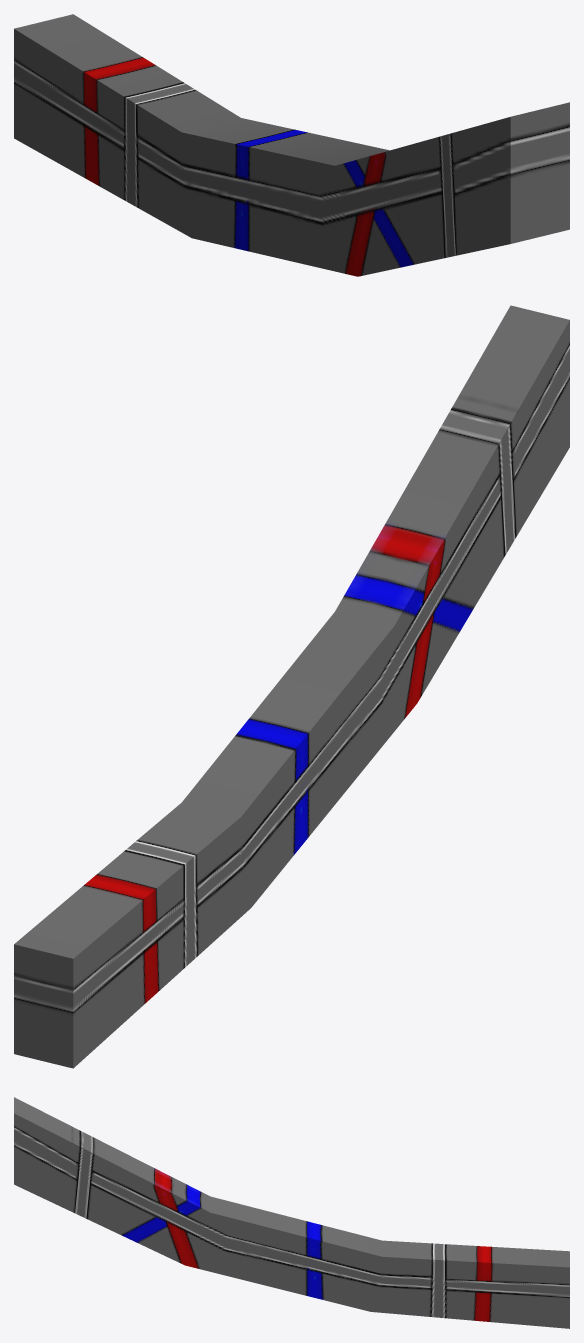
The model's file is space_ramp_border.gltf.
3 renders of one model, top to bottom at view 1: azimuth 30°, elevation 25°; view 2: azimuth 150°, elevation 25°; view 3: azimuth 270°, elevation 25°, orthographic. The views are drawn at different scales.
Parts seen in each view (by area): view 1: space_ramp_border_glb; view 2: space_ramp_border_glb; view 3: space_ramp_border_glb.
Part boxes in pixels (box(x1,y1,x2,y2)): space_ramp_border_glb: box(14, 14, 569, 276); space_ramp_border_glb: box(14, 305, 569, 1068); space_ramp_border_glb: box(14, 1097, 569, 1328).
Size of what is drawn, in the model's own units: 0.2771 by 1.72 by 4.02.
Materials: 1 (1 with a texture image).
